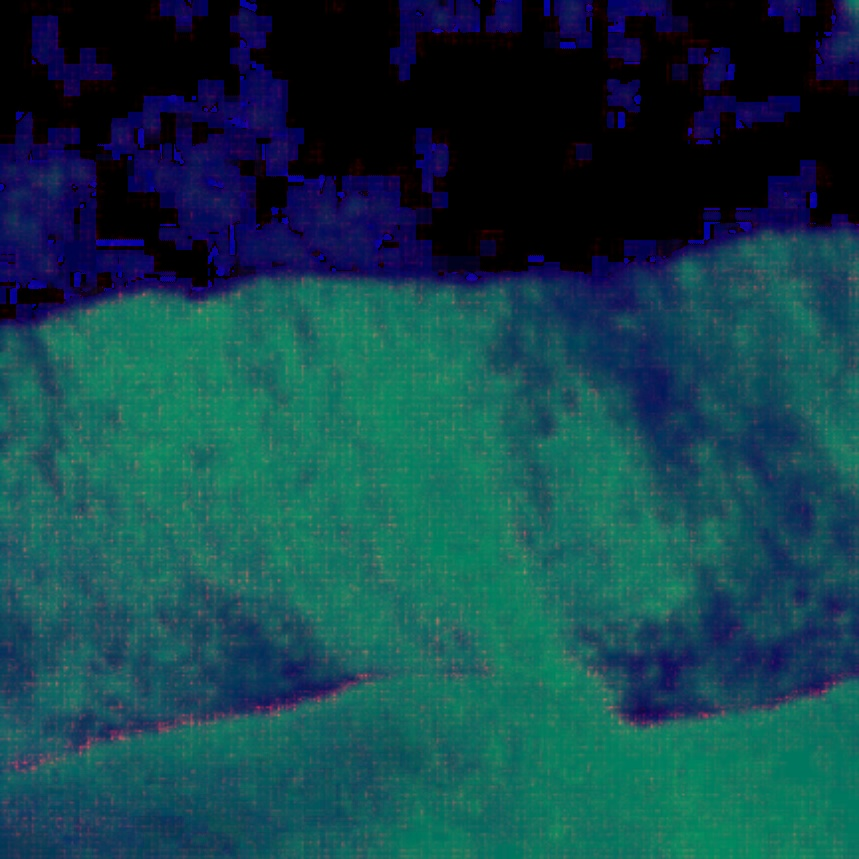rip_current: (283, 227, 682, 727)
